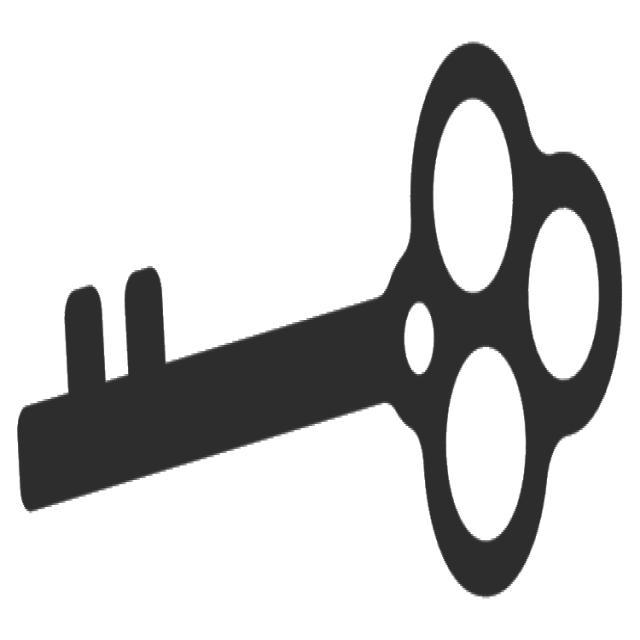key: (1, 34, 631, 610)
